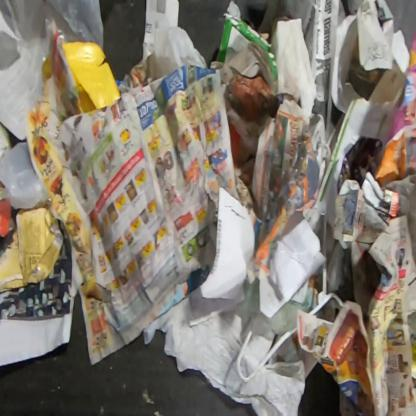cardboard: (210, 0, 277, 93), (366, 59, 406, 104)
rigid_plastic: (60, 40, 122, 117), (307, 217, 345, 314), (236, 326, 297, 383)
soft_plastic: (5, 0, 105, 113), (0, 142, 51, 210)
